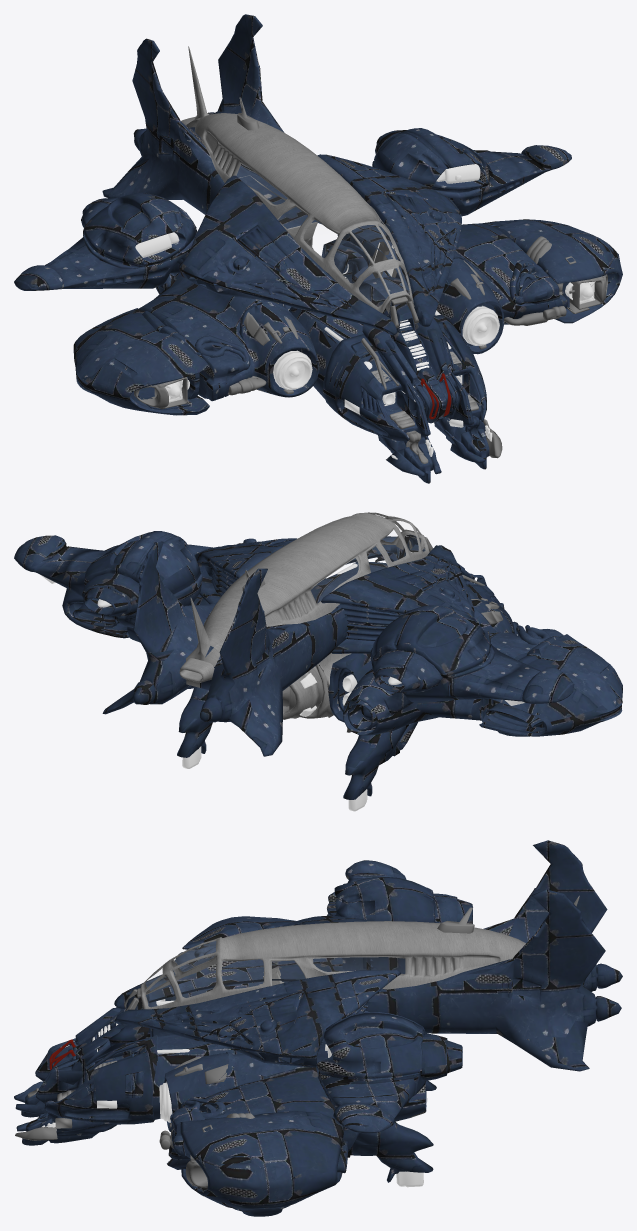
Rendered from fighter.glb.
The picture shows the model from 3 angles, top to bottom: view 1: azimuth 30°, elevation 25°; view 2: azimuth 150°, elevation 25°; view 3: azimuth 270°, elevation 25°; orthographic projection. The views are drawn at different scales.
Visible parts, largest first — view 1: Alien Spaceship part_001_Blue spaceship wall sci-fi.006_0, Alien Spaceship part_006_Blue spaceship wall sci-fi.009_0, Alien Spaceship part_028_brushed_aluminum_70_77_0, Alien Spaceship part_107_Basic Metal_0, Alien Spaceship part_001_Material.001_0; view 2: Alien Spaceship part_001_Blue spaceship wall sci-fi.006_0, Alien Spaceship part_028_brushed_aluminum_70_77_0, Alien Spaceship part_001_Material.001_0, Alien Spaceship part_006_Blue spaceship wall sci-fi.009_0, Alien Spaceship part_107_Basic Metal_0; view 3: Alien Spaceship part_001_Blue spaceship wall sci-fi.006_0, Alien Spaceship part_028_brushed_aluminum_70_77_0, Alien Spaceship part_006_Blue spaceship wall sci-fi.009_0, Alien Spaceship part_107_Basic Metal_0, Alien Spaceship part_001_Material.001_0.
Part boxes in pixels (bbox=[...]): Alien Spaceship part_001_Blue spaceship wall sci-fi.006_0: bbox=[14, 14, 622, 415]; Alien Spaceship part_006_Blue spaceship wall sci-fi.009_0: bbox=[323, 301, 489, 483]; Alien Spaceship part_028_brushed_aluminum_70_77_0: bbox=[181, 46, 478, 429]; Alien Spaceship part_107_Basic Metal_0: bbox=[134, 97, 607, 463]; Alien Spaceship part_001_Material.001_0: bbox=[135, 164, 595, 459]; Alien Spaceship part_001_Blue spaceship wall sci-fi.006_0: bbox=[14, 531, 622, 799]; Alien Spaceship part_028_brushed_aluminum_70_77_0: bbox=[179, 512, 429, 719]; Alien Spaceship part_001_Material.001_0: bbox=[40, 563, 524, 811]; Alien Spaceship part_006_Blue spaceship wall sci-fi.009_0: bbox=[353, 534, 518, 634]; Alien Spaceship part_107_Basic Metal_0: bbox=[242, 533, 503, 732]; Alien Spaceship part_001_Blue spaceship wall sci-fi.006_0: bbox=[114, 840, 622, 1216]; Alien Spaceship part_028_brushed_aluminum_70_77_0: bbox=[57, 895, 579, 1101]; Alien Spaceship part_006_Blue spaceship wall sci-fi.009_0: bbox=[14, 994, 157, 1145]; Alien Spaceship part_107_Basic Metal_0: bbox=[15, 907, 474, 1187]; Alien Spaceship part_001_Material.001_0: bbox=[42, 999, 427, 1187].
Size of the model in its own units: 2.83 by 1.36 by 2.68.
Materials: 8 (8 with a texture image).
